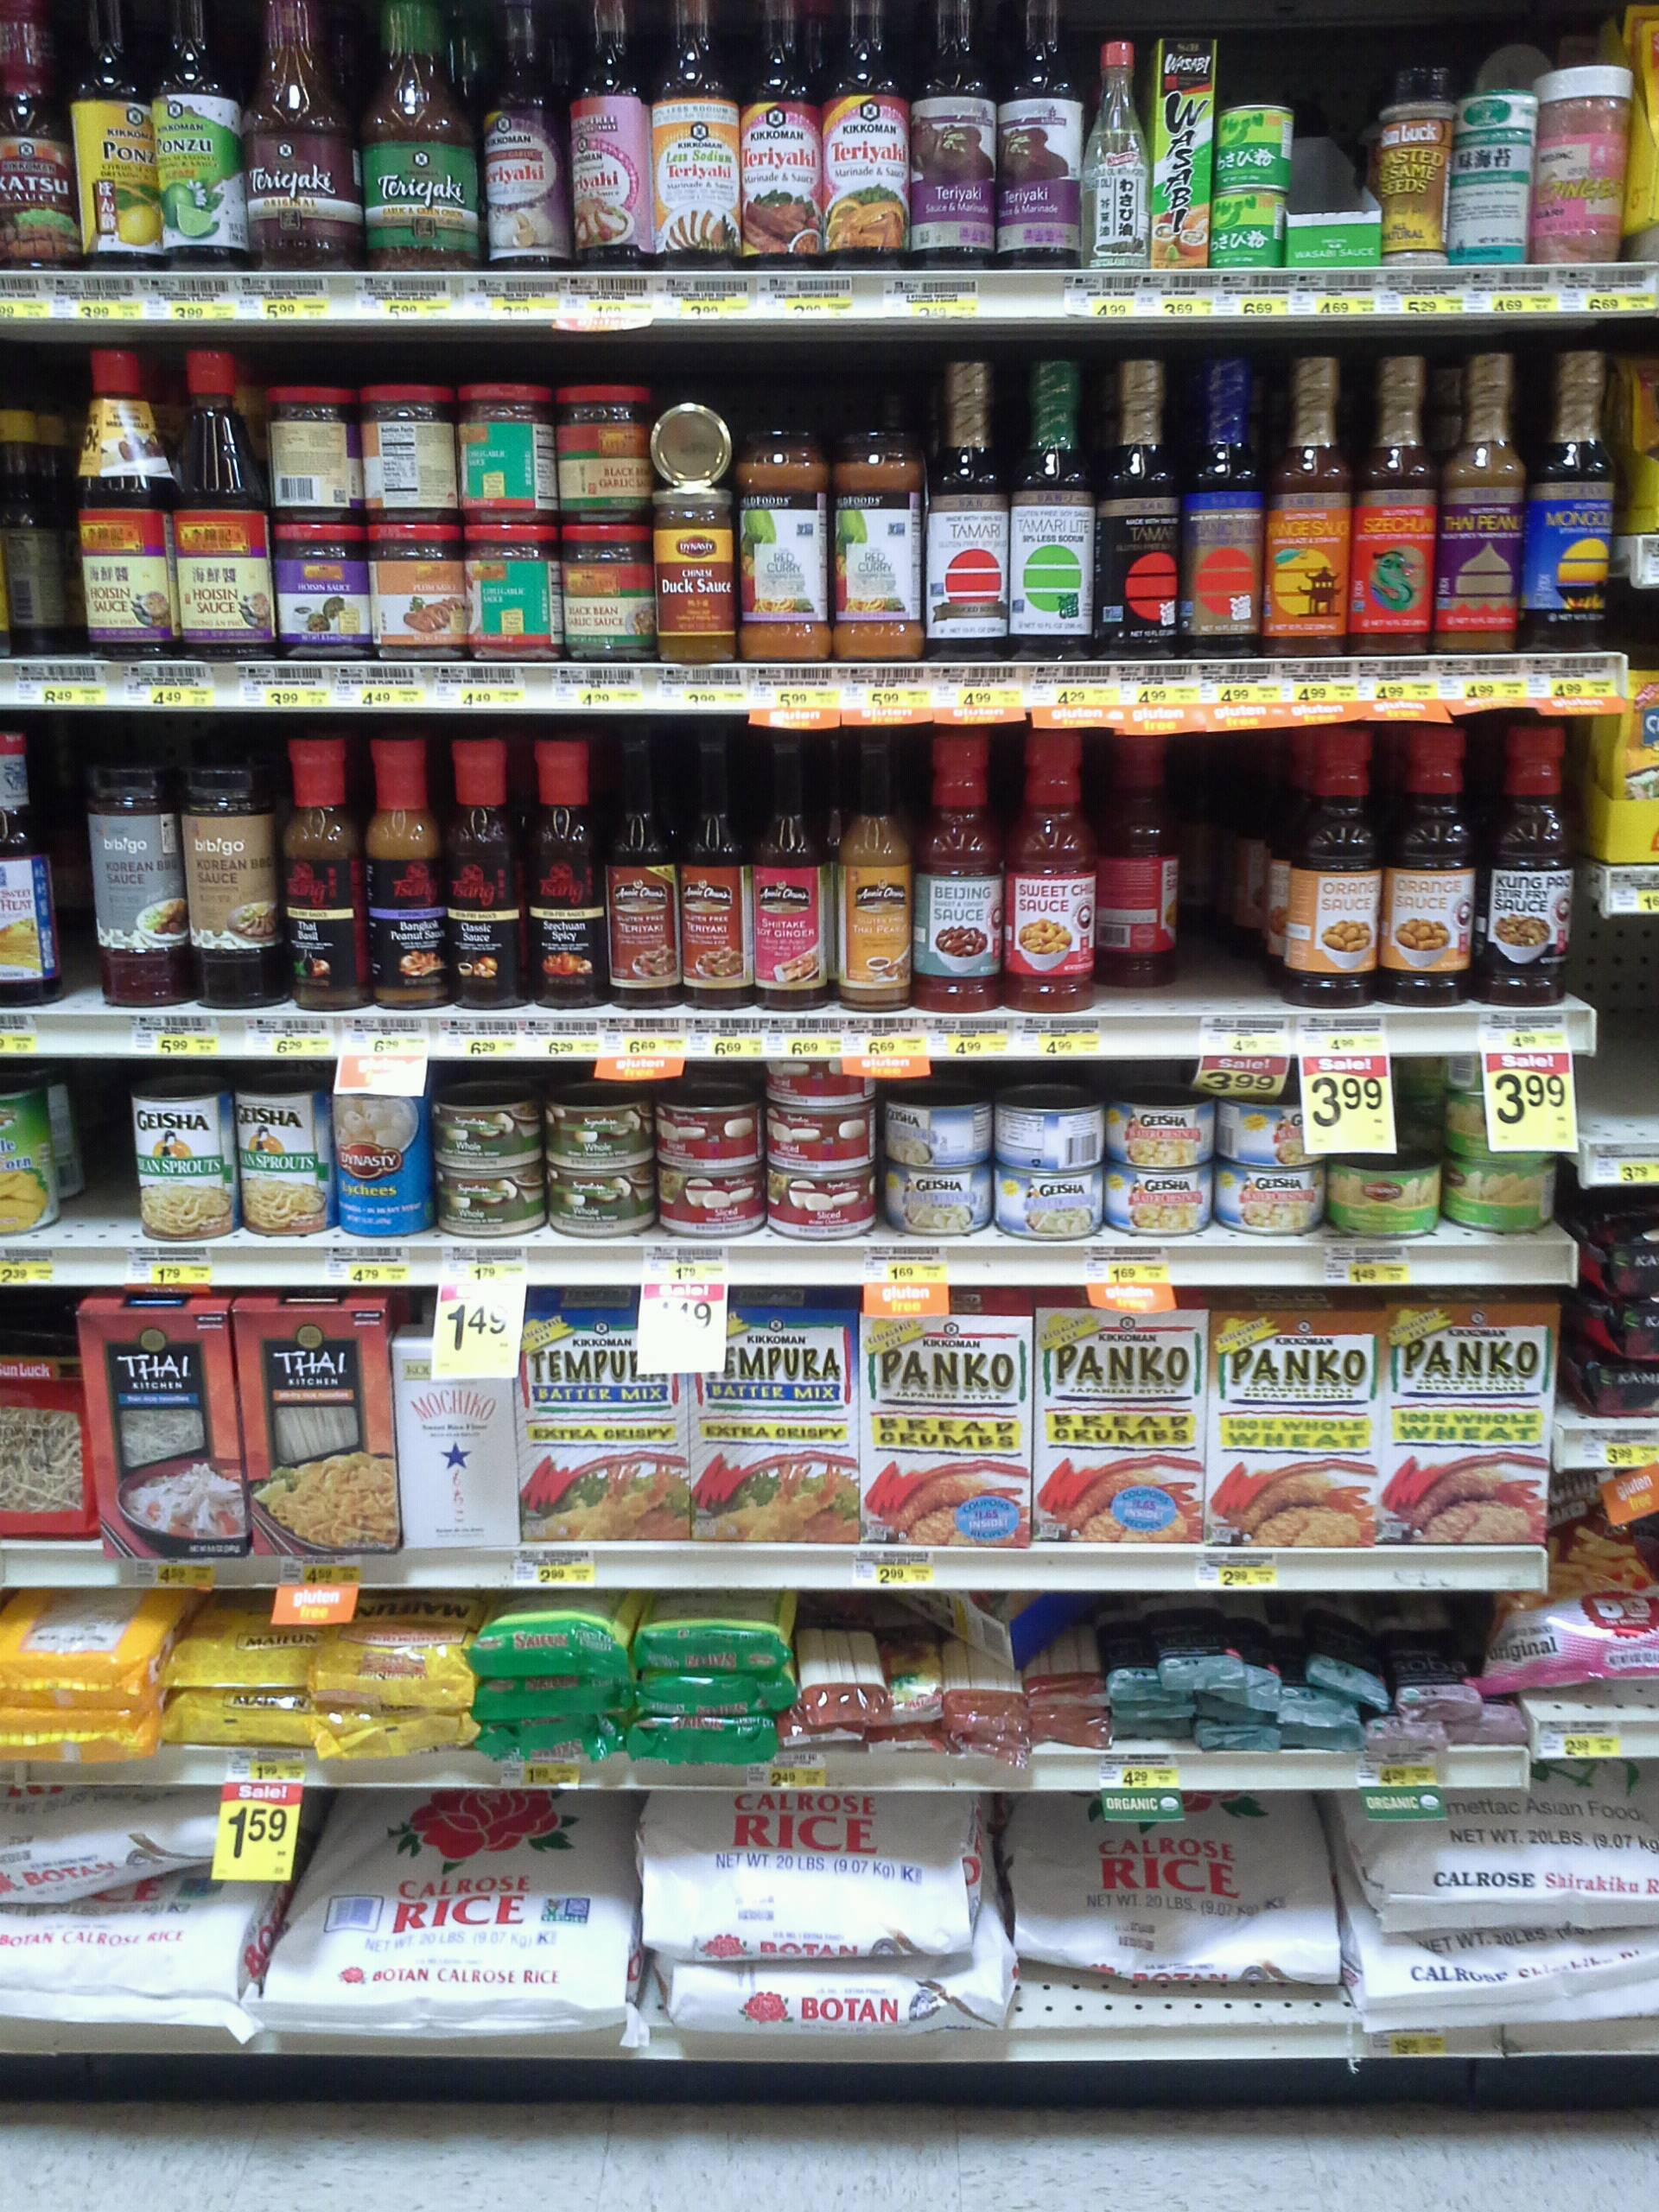Misplacement: (1098, 732, 1276, 1012)
Out-of-stock: (1288, 61, 1380, 270)
